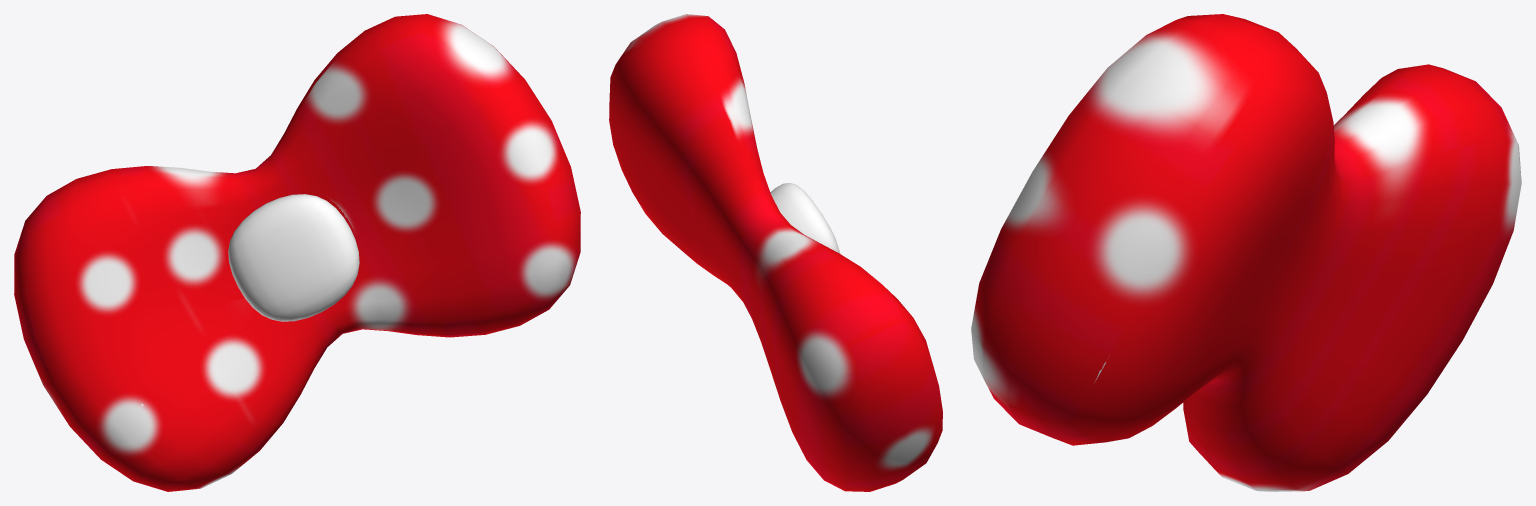
The model's file is bant.fbx.
3 views of the same model, side by side, from view 1: azimuth 30°, elevation 25°; view 2: azimuth 150°, elevation 25°; view 3: azimuth 270°, elevation 25° (orthographic). The views are drawn at different scales.
Visible parts, largest first — view 1: bant; view 2: bant; view 3: bant.
Part boxes in pixels (bbox=[...]): bant: bbox=[14, 14, 580, 491]; bant: bbox=[609, 14, 942, 491]; bant: bbox=[971, 14, 1521, 491].
Bounding box in the file's own units: 34.47 × 32.48 × 26.59.
